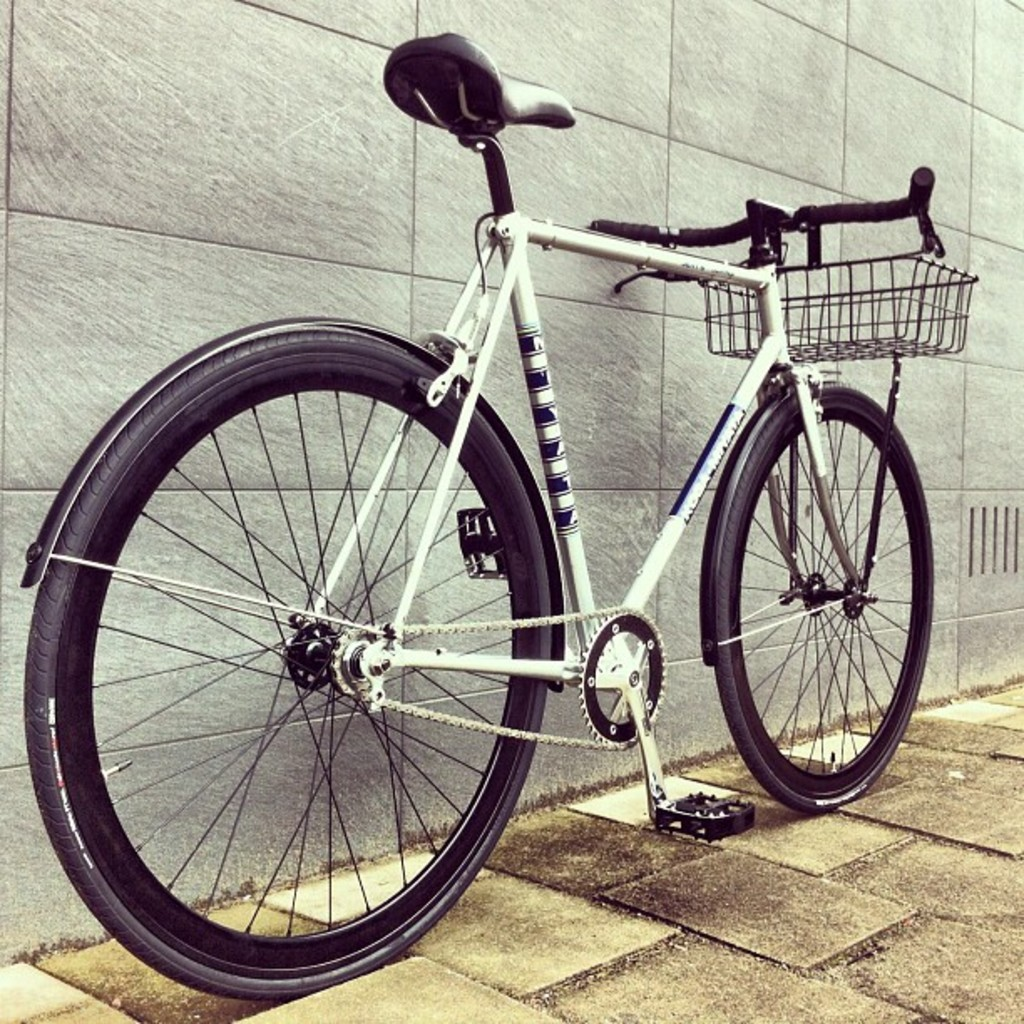Bike: (82, 31, 964, 965)
